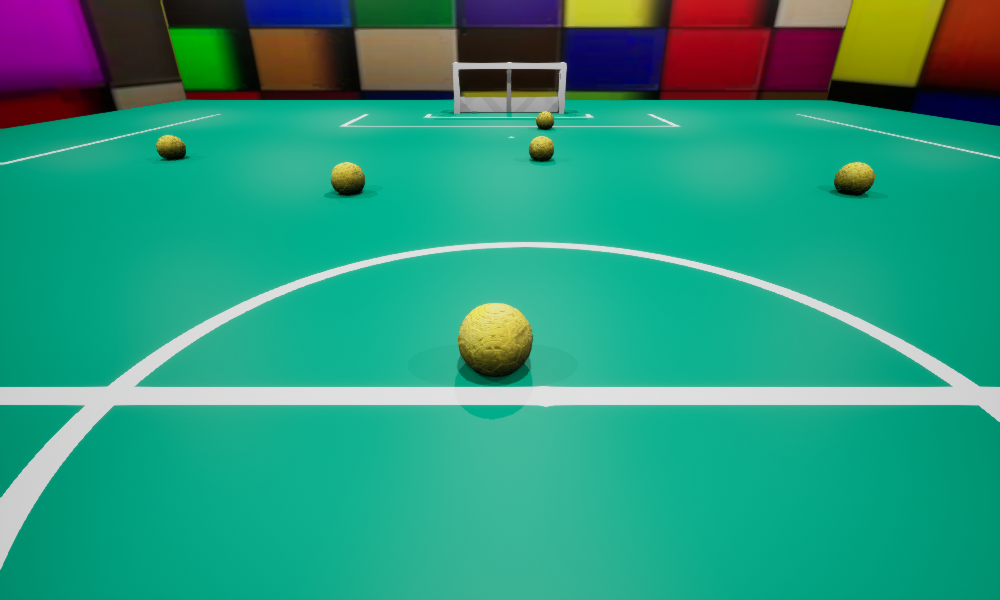b: (458, 303, 532, 375), (834, 162, 874, 194), (330, 162, 364, 193), (156, 135, 185, 159), (529, 136, 553, 160), (536, 111, 553, 128)
g: (452, 62, 566, 113)
